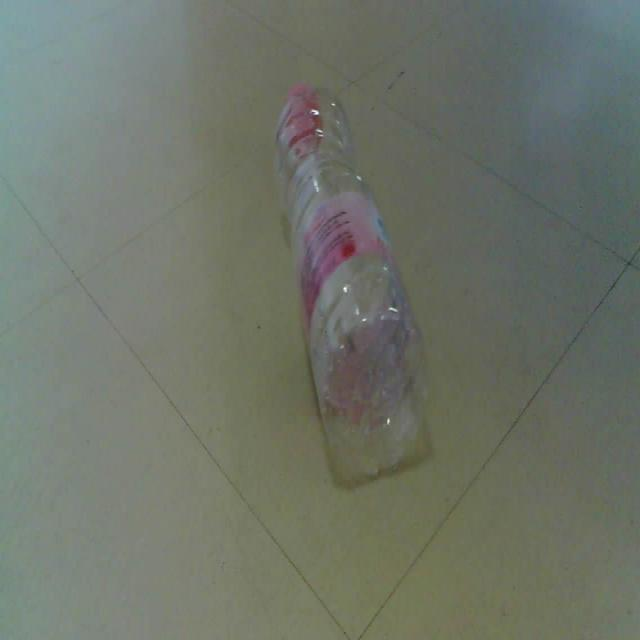empty: (275, 83, 428, 480)
